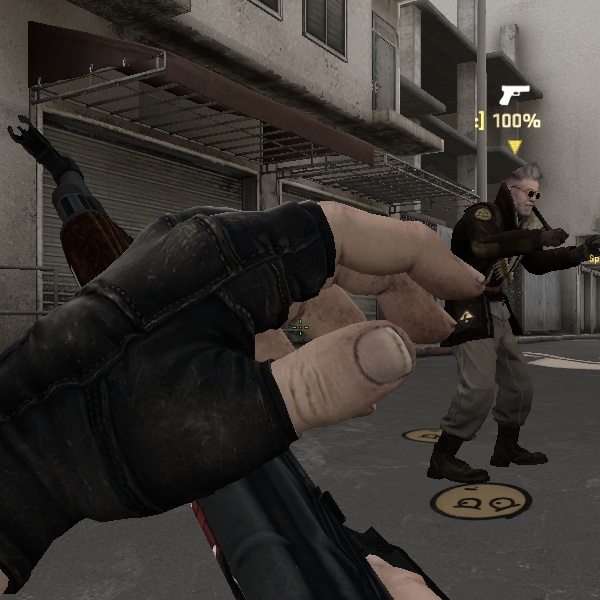t_body: (423, 152, 597, 477)
t_head: (496, 155, 565, 229)
